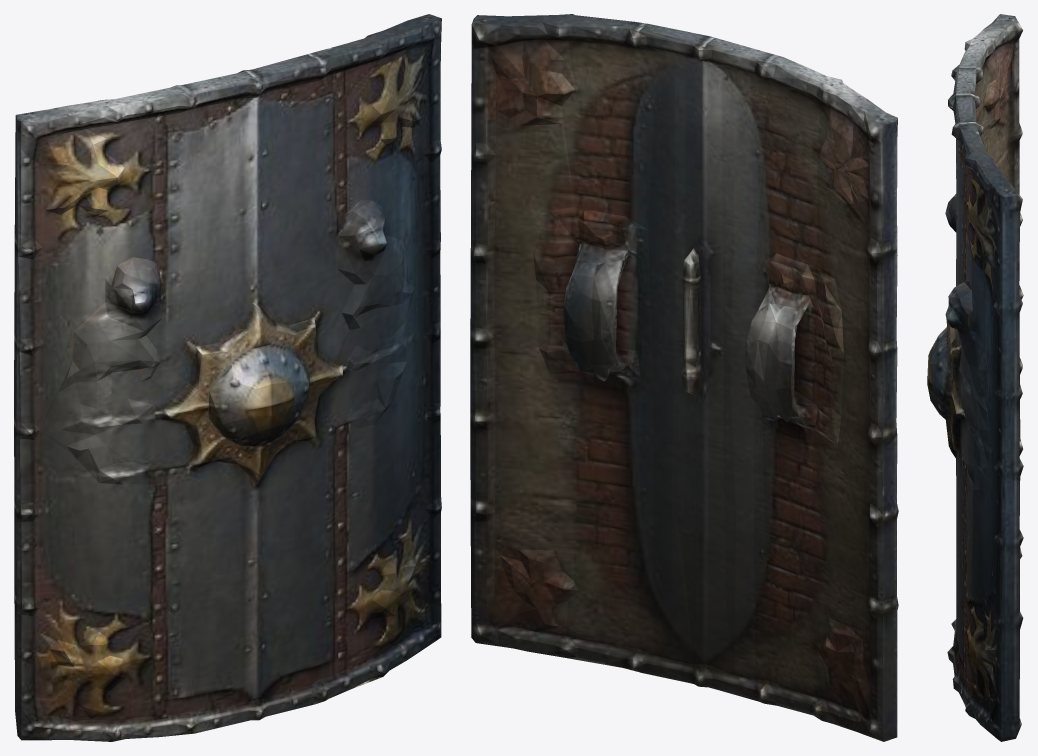
File: wall_shield_iron_studded_lod0.glb
3 views of the same model, side by side, from view 1: azimuth 30°, elevation 25°; view 2: azimuth 150°, elevation 25°; view 3: azimuth 270°, elevation 25° (orthographic). The views are drawn at different scales.
Visible parts, largest first — view 1: wall_shield_iron_studded_lod0; view 2: wall_shield_iron_studded_lod0; view 3: wall_shield_iron_studded_lod0.
Boxes of the visible parts, <box> form: wall_shield_iron_studded_lod0: <box>14,14,441,741</box>; wall_shield_iron_studded_lod0: <box>470,14,898,741</box>; wall_shield_iron_studded_lod0: <box>927,14,1023,741</box>.
Size of the model in its own units: 0.8258 by 1.2 by 0.185.
1 material, 1 textured.
